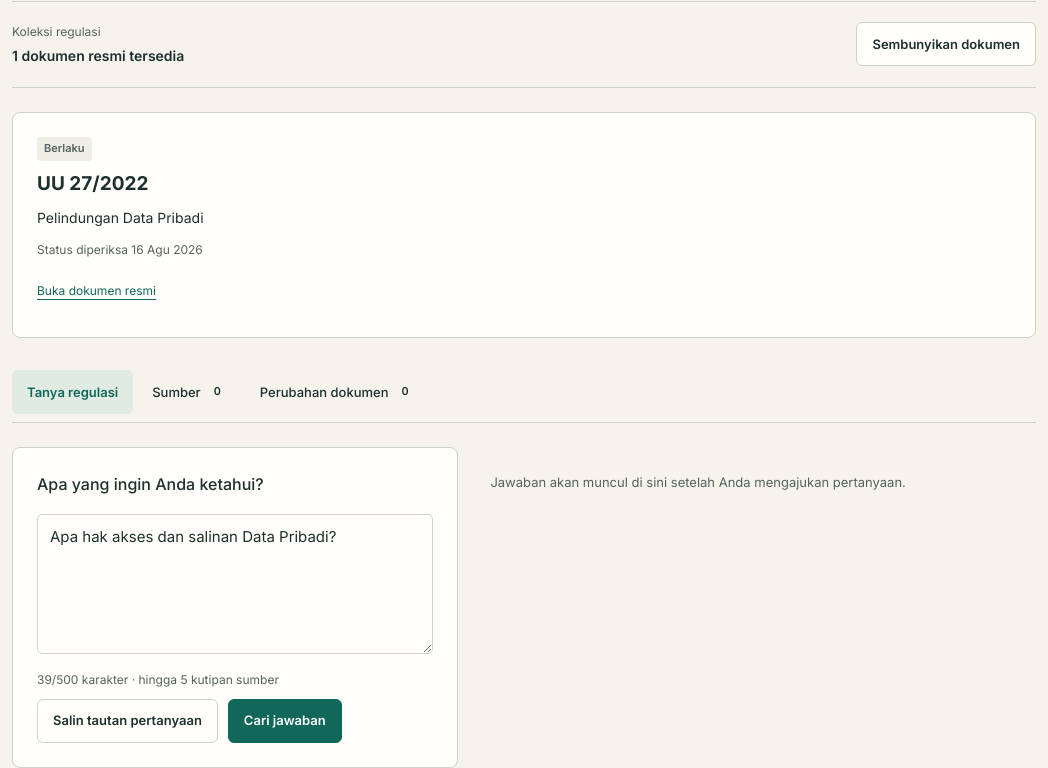
Test: RegulationLens › shows a refusal without fabricated citations
(page scrolled)
Check: the heading "UU 27/2022" is shown, box [37, 171, 148, 198]
Replace the text in the text box labelled "Apa yang ingin Anda ketahui?" with "Apa isi dokumen yang tidak tersedia?" at [235, 584], box [37, 514, 433, 654]
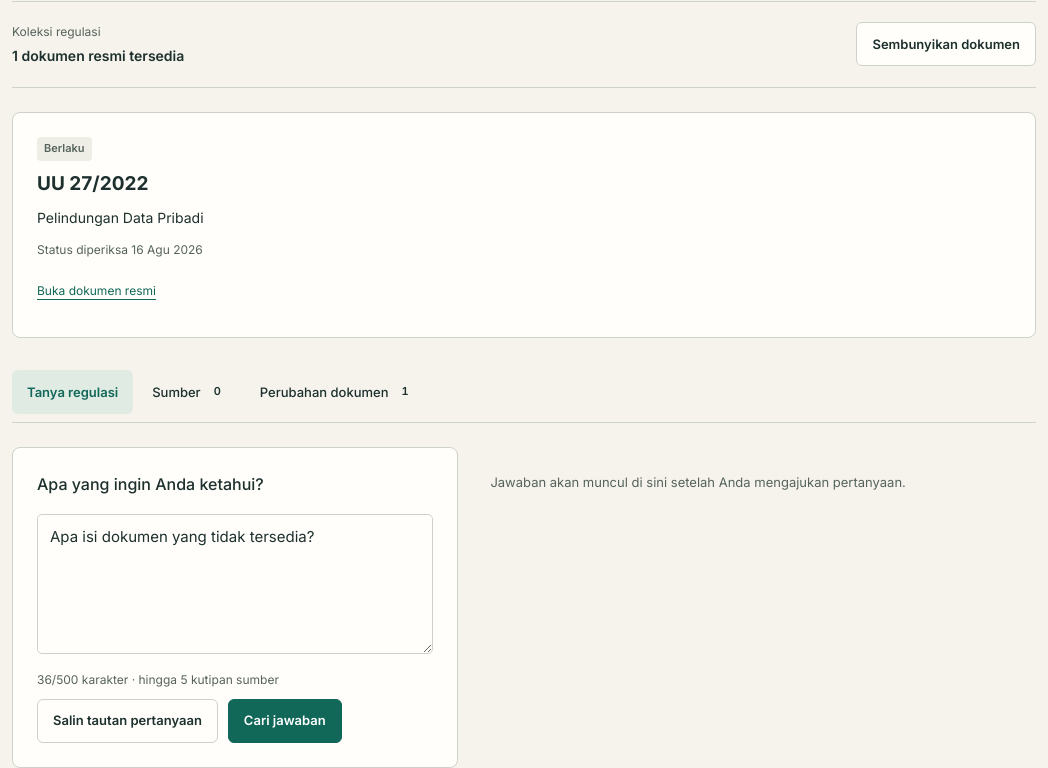
Click the button "Cari jawaban" at [285, 721], box [228, 699, 342, 743]
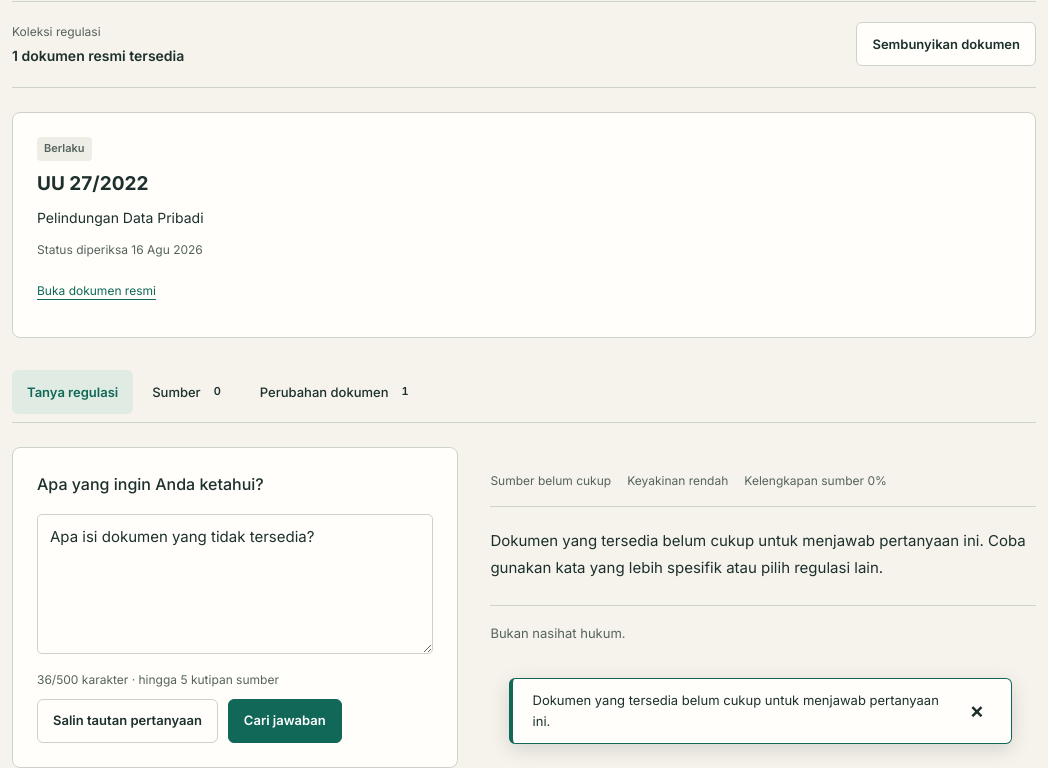
Check: the text "Sumber belum cukup" is shown, box [490, 471, 611, 490]
Check: the text "Dokumen yang tersedia belum cukup" is shown, box [490, 531, 1026, 577]
